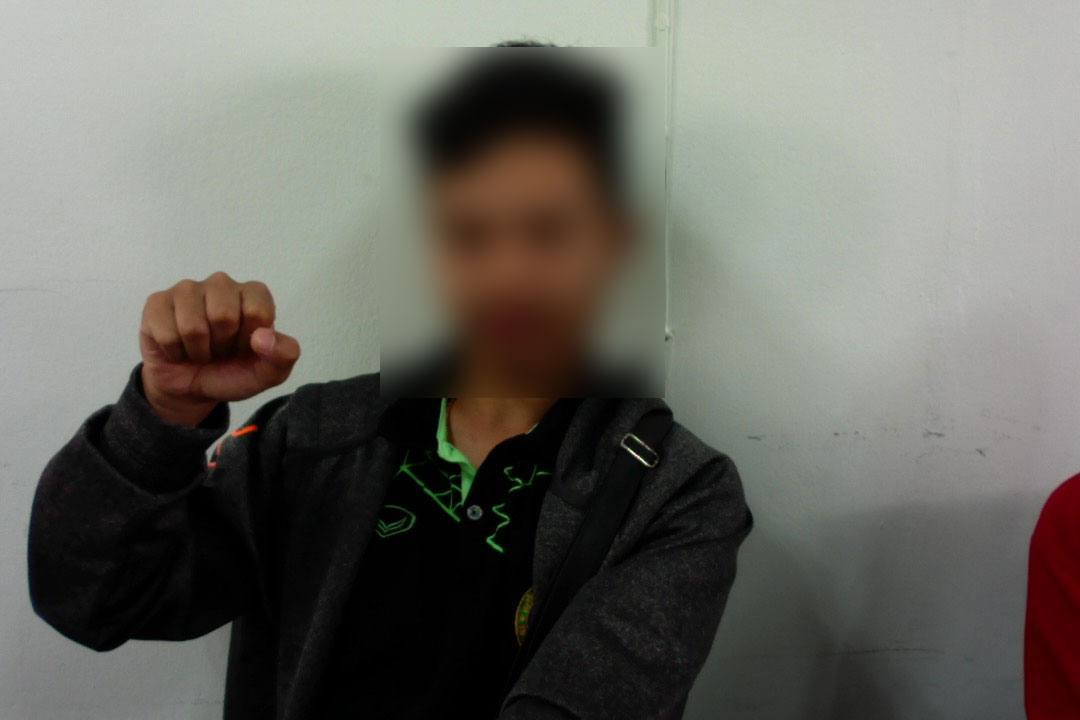sor: (129, 261, 310, 426)
